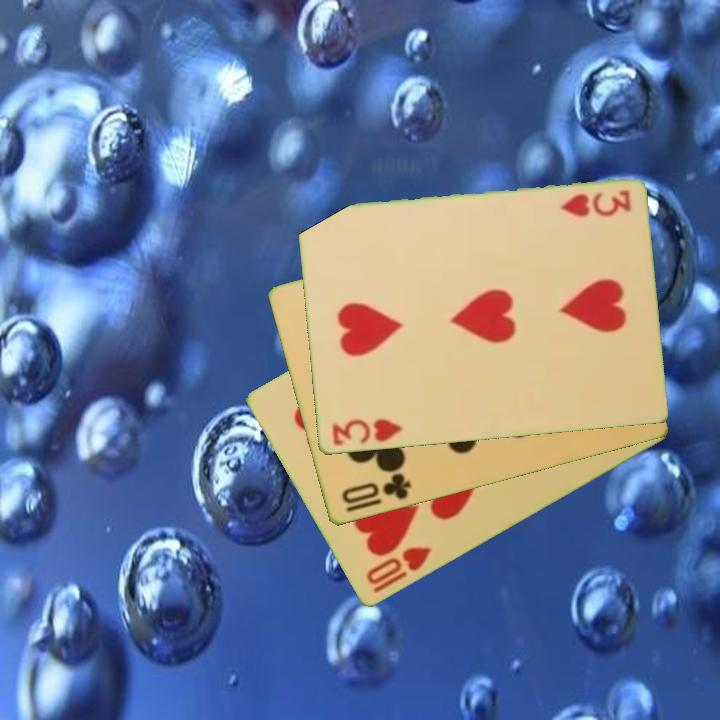10c: (338, 470, 414, 508)
10h: (362, 543, 435, 589)
3h: (328, 415, 406, 449), (557, 187, 634, 221)
